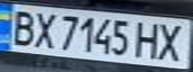1: (75, 15, 96, 53)
4: (90, 16, 115, 55)
5: (112, 17, 136, 57)
7: (54, 12, 78, 52)
B: (3, 7, 39, 47)
H: (133, 19, 163, 60)
X: (151, 20, 190, 62), (30, 9, 60, 50)
